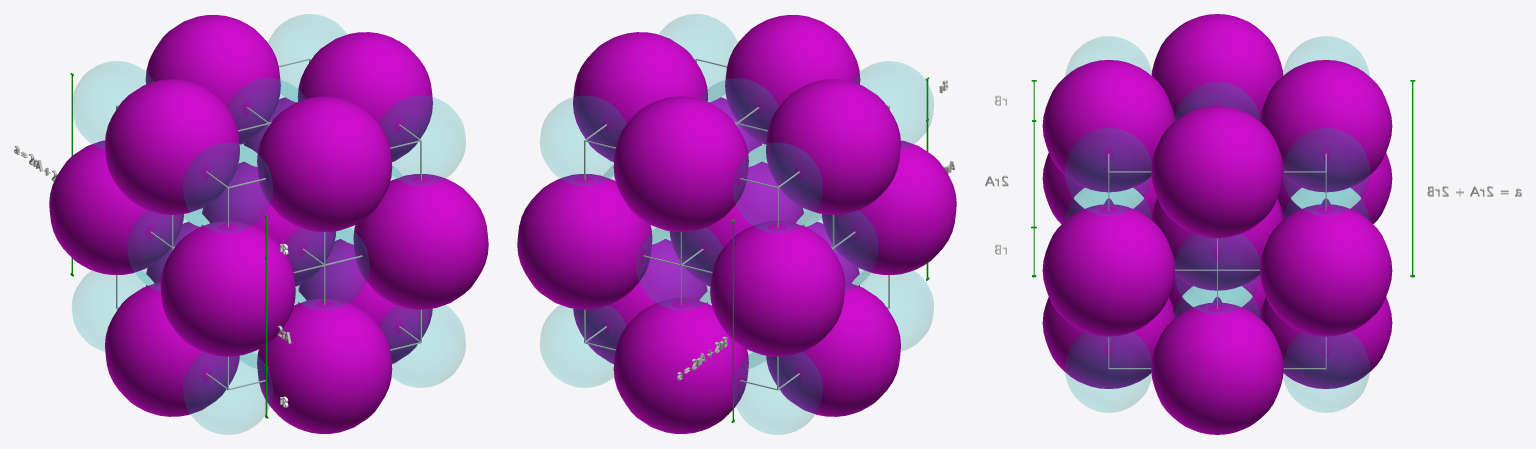
The model's file is naclvolume_centrado.glb.
3 views of the same model, side by side, from view 1: azimuth 30°, elevation 25°; view 2: azimuth 150°, elevation 25°; view 3: azimuth 270°, elevation 25° (orthographic). The views are drawn at different scales.
Visible parts, largest first — view 1: pasted__polySurface58; view 2: pasted__polySurface58; view 3: pasted__polySurface58.
Part boxes in pixels (box(x1,y1,x2,y2)): pasted__polySurface58: box(14, 14, 488, 434); pasted__polySurface58: box(517, 14, 956, 434); pasted__polySurface58: box(985, 14, 1521, 434).
Bounding box in the file's own units: 3.22 × 3.22 × 4.94.
